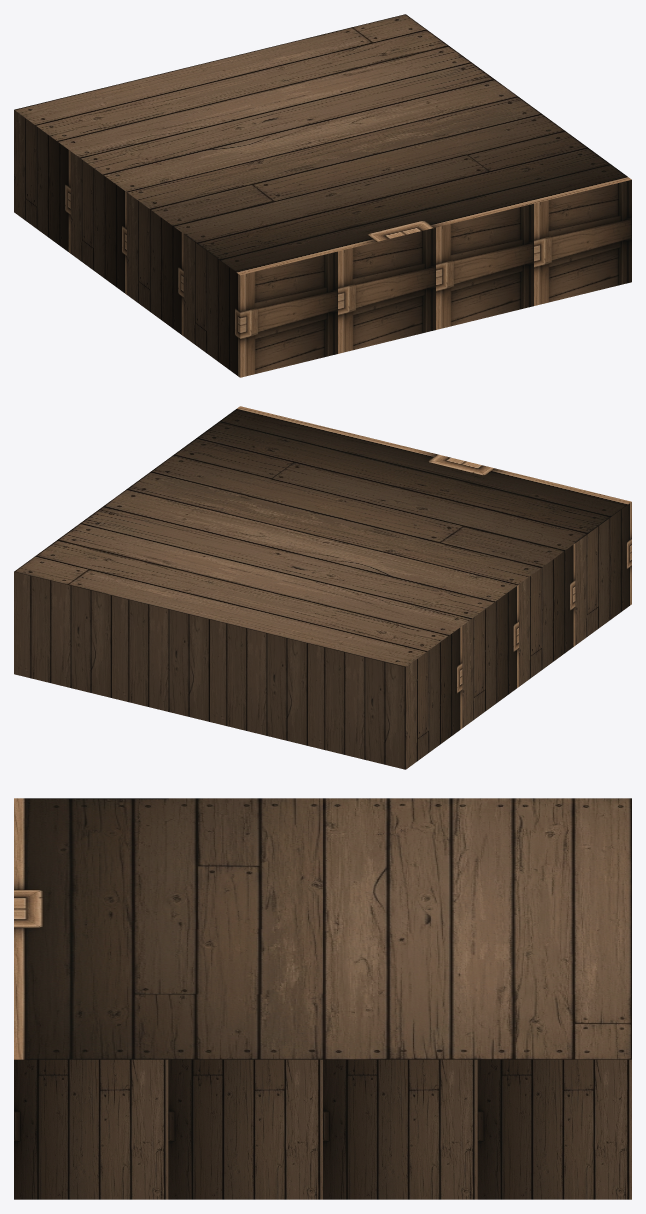
Rendered from お城の床(1).fbx.
The picture shows the model from 3 angles, top to bottom: view 1: azimuth 30°, elevation 25°; view 2: azimuth 150°, elevation 25°; view 3: azimuth 270°, elevation 25°; orthographic projection. The views are drawn at different scales.
Visible parts, largest first — view 1: 立方体.010, 立方体.016, 立方体.015, 立方体.014, 立方体.011, 立方体.013, 立方体.012, 立方体.001, 立方体.005, 立方体.008, 立方体.006, 立方体.007 (+4 smaller); view 2: 立方体.012, 立方体.005, 立方体.003, 立方体.008, 立方体.011, 立方体.013, 立方体.010, 立方体.006, 立方体.014, 立方体.016, 立方体.001, 立方体.009 (+4 smaller); view 3: 立方体.001, 立方体.005, 立方体.006, 立方体.016, 立方体.003, 立方体.004, 立方体.007, 立方体.009, 立方体.010, 立方体.011, 立方体.012, 立方体.013 (+4 smaller).
Boxes of the visible parts, left/top/right/bottom form: 立方体.010: left=183, top=210, right=337, bottom=377; 立方体.016: left=478, top=138, right=631, bottom=305; 立方体.015: left=380, top=162, right=533, bottom=329; 立方体.014: left=282, top=186, right=435, bottom=353; 立方体.011: left=127, top=168, right=280, bottom=335; 立方体.013: left=70, top=127, right=224, bottom=294; 立方体.012: left=14, top=86, right=167, bottom=253; 立方体.001: left=364, top=55, right=518, bottom=120; 立方体.005: left=308, top=14, right=461, bottom=79; 立方体.008: left=112, top=62, right=265, bottom=127; 立方体.006: left=421, top=97, right=574, bottom=161; 立方体.007: left=169, top=103, right=322, bottom=168; 立方体.012: left=308, top=602, right=462, bottom=769; 立方体.005: left=14, top=530, right=167, bottom=697; 立方体.003: left=112, top=554, right=265, bottom=721; 立方体.008: left=210, top=578, right=363, bottom=745; 立方体.011: left=421, top=519, right=575, bottom=686; 立方体.013: left=365, top=560, right=518, bottom=727; 立方体.010: left=478, top=478, right=631, bottom=645; 立方体.006: left=127, top=447, right=281, bottom=512; 立方体.014: left=380, top=454, right=533, bottom=519; 立方体.016: left=184, top=406, right=337, bottom=471; 立方体.001: left=71, top=489, right=224, bottom=553; 立方体.009: left=323, top=495, right=476, bottom=560; 立方体.001: left=323, top=994, right=477, bottom=1199; 立方体.005: left=477, top=994, right=631, bottom=1199; 立方体.006: left=168, top=994, right=322, bottom=1199; 立方体.016: left=14, top=994, right=168, bottom=1199; 立方体.003: left=477, top=929, right=631, bottom=994; 立方体.004: left=168, top=929, right=322, bottom=994; 立方体.007: left=323, top=863, right=477, bottom=928; 立方体.009: left=168, top=863, right=322, bottom=928; 立方体.010: left=14, top=798, right=168, bottom=863; 立方体.011: left=168, top=798, right=322, bottom=863; 立方体.012: left=477, top=798, right=631, bottom=863; 立方体.013: left=323, top=798, right=477, bottom=863.
Size of the model in its own units: 4 by 1 by 4.
1 material, 1 textured.
